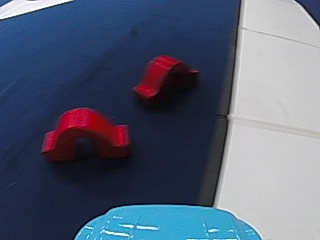bridge: (37, 103, 129, 163), (129, 52, 198, 111)
